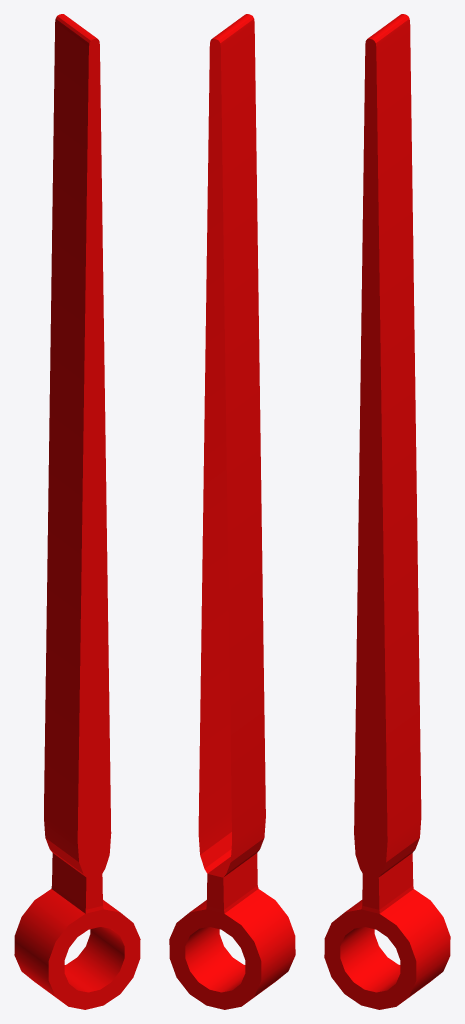
File: Sekond.FBX
The picture shows the model from 3 angles, left to right: view 1: azimuth 30°, elevation 25°; view 2: azimuth 150°, elevation 25°; view 3: azimuth 330°, elevation 25°; orthographic projection.
Visible parts, largest first — view 1: Object003; view 2: Object003; view 3: Object003.
Part boxes in pixels (bbox=[...]): Object003: bbox=[14, 14, 140, 1009]; Object003: bbox=[169, 14, 295, 1009]; Object003: bbox=[324, 14, 450, 1009].
Bounding box in the file's own units: 24.35 × 245 × 15.63.
